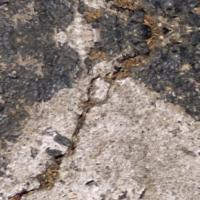crack: (5, 74, 142, 199)
